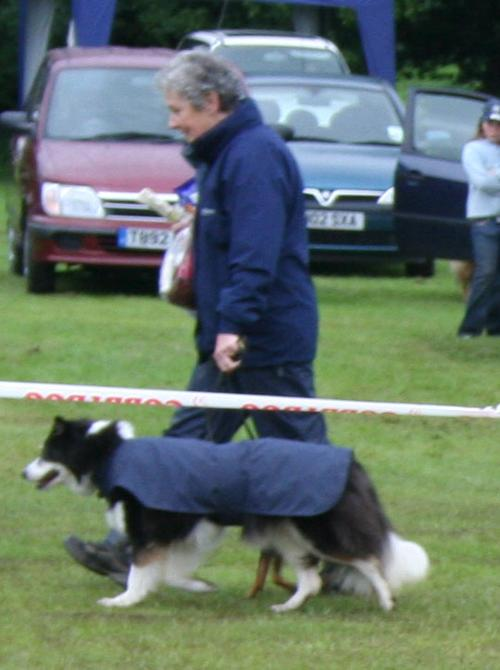person: (65, 53, 331, 596)
